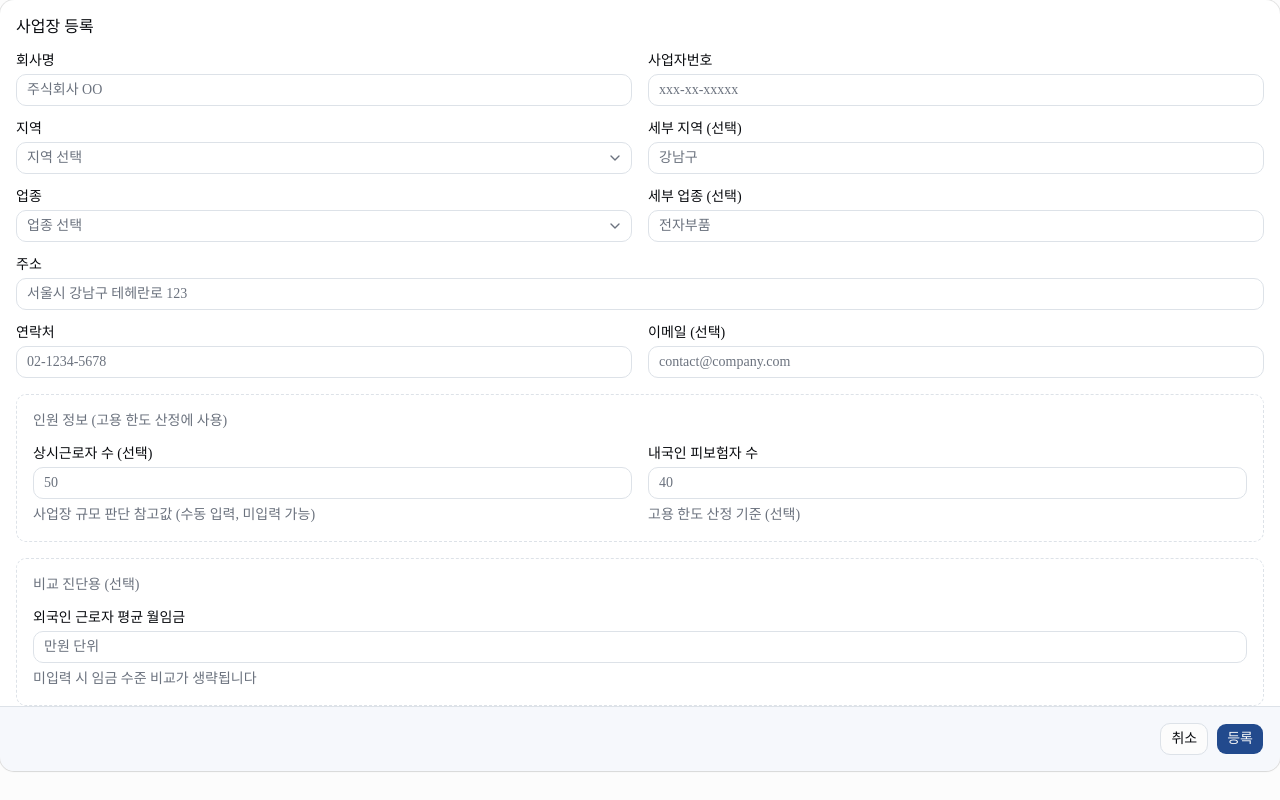
Scenario: CompanyForm › 필수_필드가_비어있으면_에러를_표시한다
The width and height of the screenshot is (1280, 800).
Click the button "등록" at (1240,739), box [1216,723,1264,755]
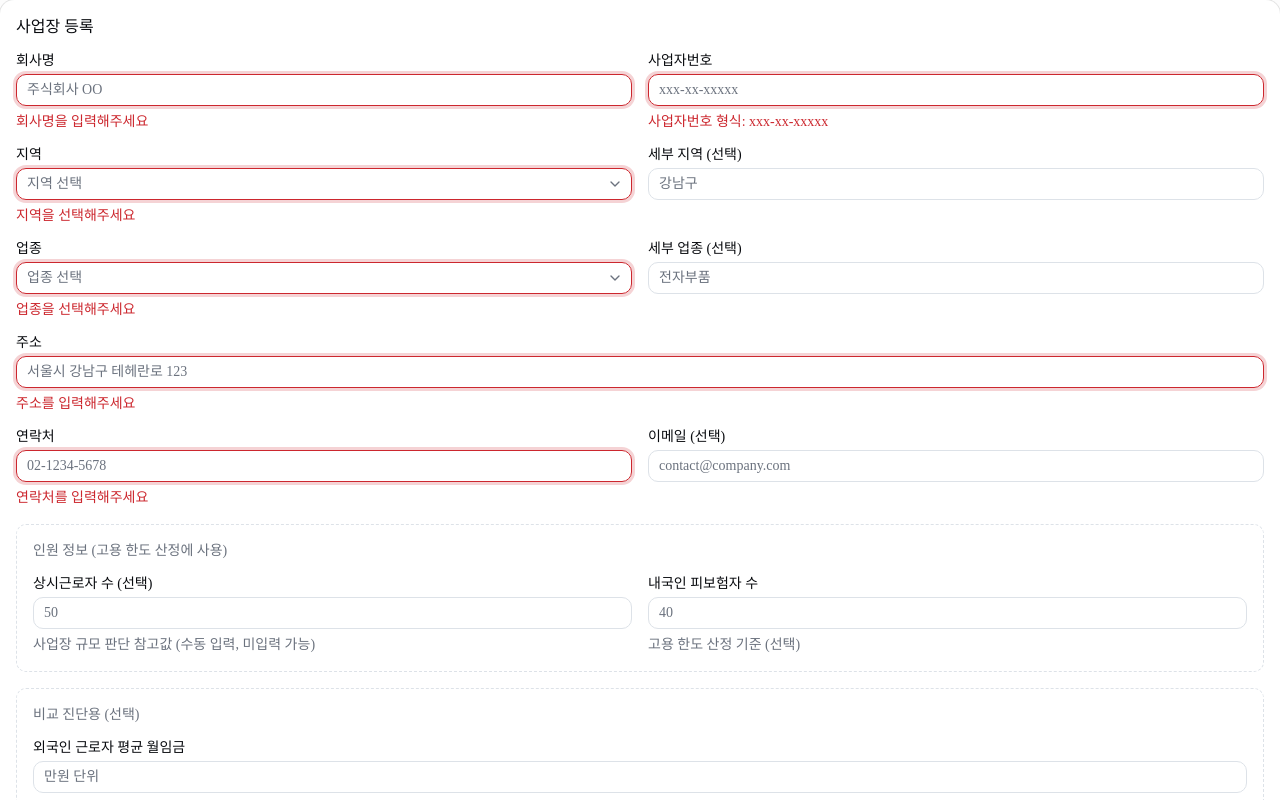
Expected: the text "회사명을 입력해주세요" is shown, [16,114,148,129]
